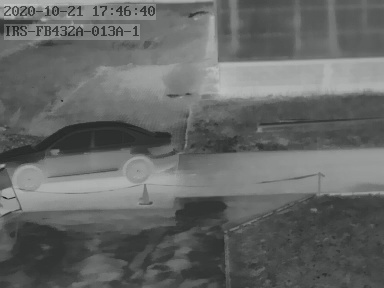vehicle: (3, 120, 177, 191)
